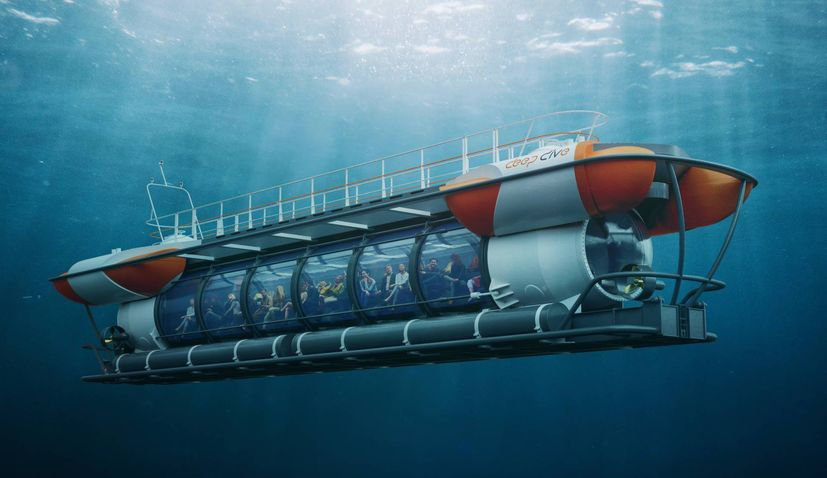Submarine: (58, 141, 752, 382)
